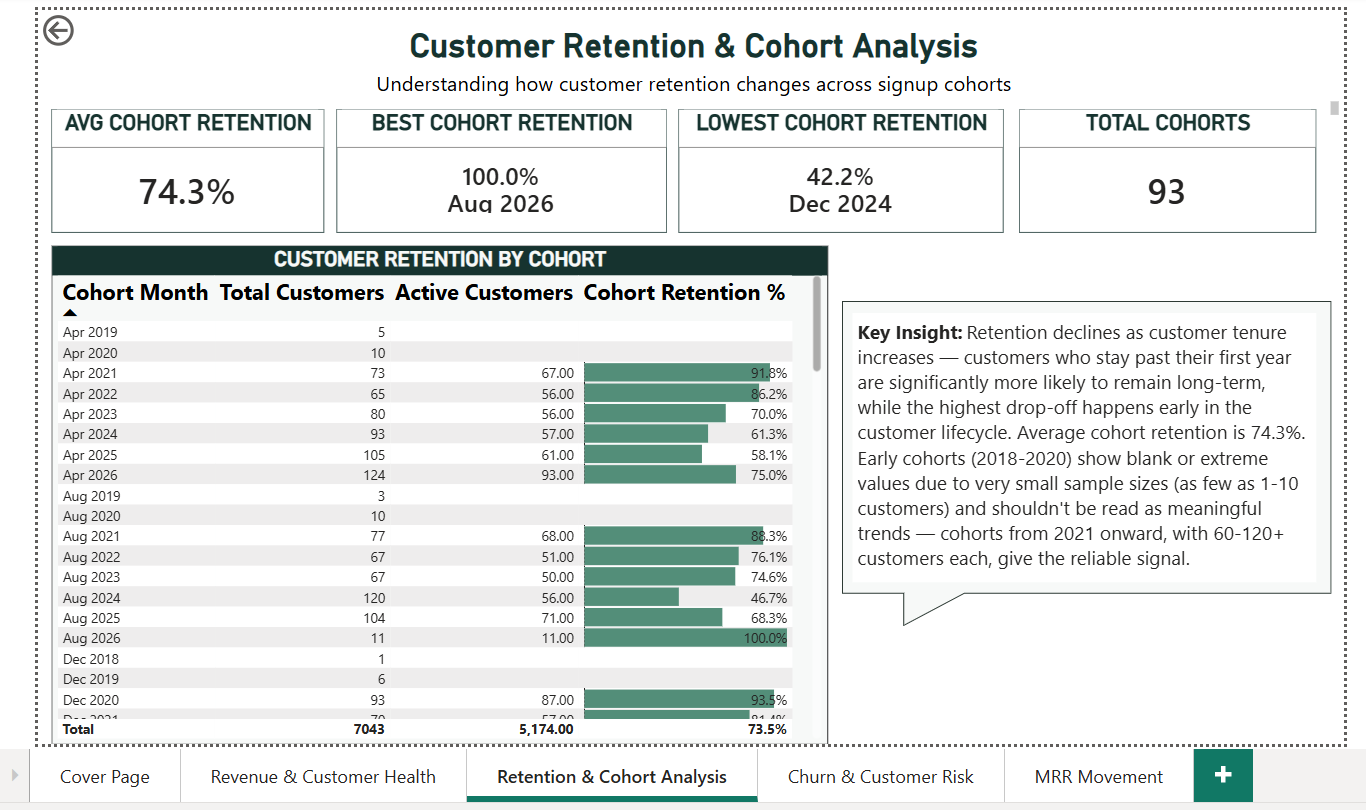

This screenshot's page, from the dashboard's own definition file:
{"tool":"powerbi","page":{"name":"Retention & Cohort Analysis","canvas":[1280,720],"ordinal":2},"visuals":[{"type":"pivotTable","title":" CUSTOMER RETENTION BY COHORT   ","fields":{"Rows":["Subscriptions.Cohort Month"],"Values":["Subscriptions.Total Customers","Subscriptions.Active Customers","Subscriptions.Cohort Retention %"]},"box":[12.6,230.5,761.1,489.5],"z":0},{"type":"textbox","title":"Customer Retention & Cohort Analysis","box":[5.8,16,1274.2,91.8],"z":1000},{"type":"cardVisual","title":"AVG COHORT RETENTION","fields":{"Data":["Subscriptions.Average Cohort Retention %"]},"box":[13,97.2,267.2,121.4],"z":2000},{"type":"cardVisual","title":"BEST COHORT RETENTION","fields":{"Data":["Subscriptions.Best Cohort Retention %","Subscriptions.Best Cohort Month"]},"box":[293.1,97.2,323.8,121.4],"z":3000},{"type":"cardVisual","title":"LOWEST COHORT RETENTION","fields":{"Data":["Subscriptions.Lowest Cohort Retention %","Subscriptions.Lowest Cohort Month"]},"box":[628.3,97.2,319,121.4],"z":4000},{"type":"cardVisual","title":"TOTAL COHORTS","fields":{"Data":["Subscriptions.Total Cohorts"]},"box":[961.8,97.2,291.5,121.4],"z":5000},{"type":"actionButton","box":[0,0,100,40],"z":6000},{"type":"textbox","box":[799,315.8,454.7,259],"z":7000},{"type":"shape","box":[787.9,285.8,480,319],"z":8000},{"type":"textbox","box":[799,296.8,454.7,263.7],"z":9000}]}

Visuals, with their boxes on the page's 1280x720 design canvas (x1, y1, x2, y2). These are canvas units, not pixel positions in the 1366x810 screenshot, which may show the page scaled, cropped or inside an application window:
" CUSTOMER RETENTION BY COHORT   " pivotTable: x1=13, y1=230, x2=774, y2=720
"Customer Retention & Cohort Analysis" textbox: x1=6, y1=16, x2=1280, y2=108
"AVG COHORT RETENTION" cardVisual: x1=13, y1=97, x2=280, y2=219
"BEST COHORT RETENTION" cardVisual: x1=293, y1=97, x2=617, y2=219
"LOWEST COHORT RETENTION" cardVisual: x1=628, y1=97, x2=947, y2=219
"TOTAL COHORTS" cardVisual: x1=962, y1=97, x2=1253, y2=219
actionButton: x1=0, y1=0, x2=100, y2=40
textbox: x1=799, y1=316, x2=1254, y2=575
shape: x1=788, y1=286, x2=1268, y2=605
textbox: x1=799, y1=297, x2=1254, y2=560
